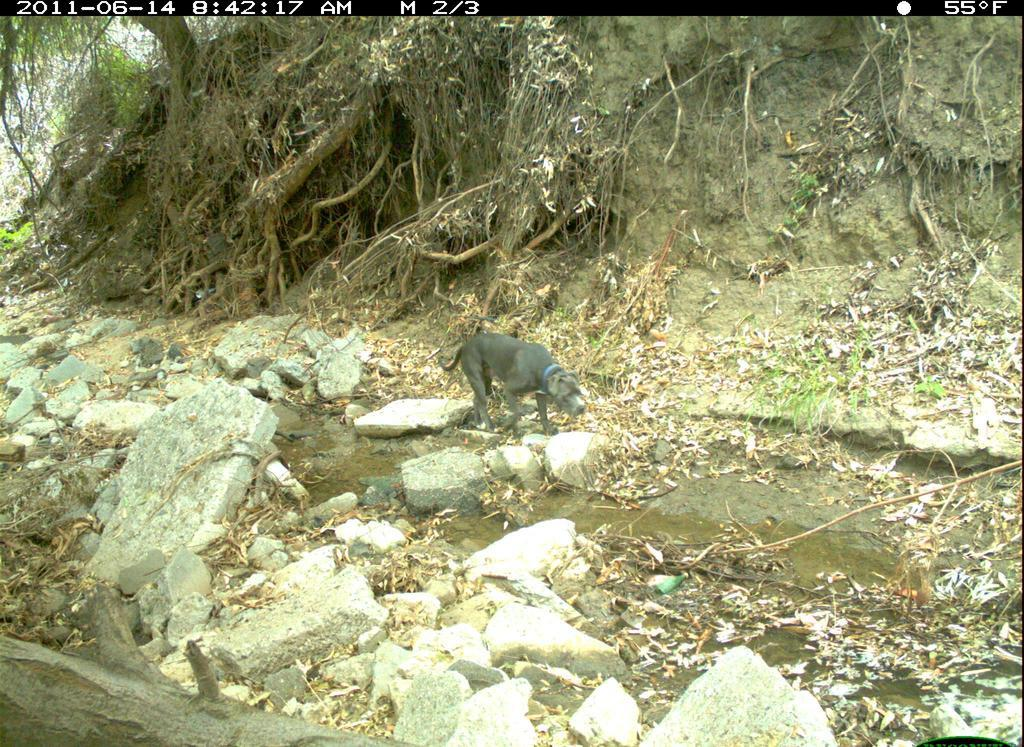dog: (437, 324, 617, 442)
